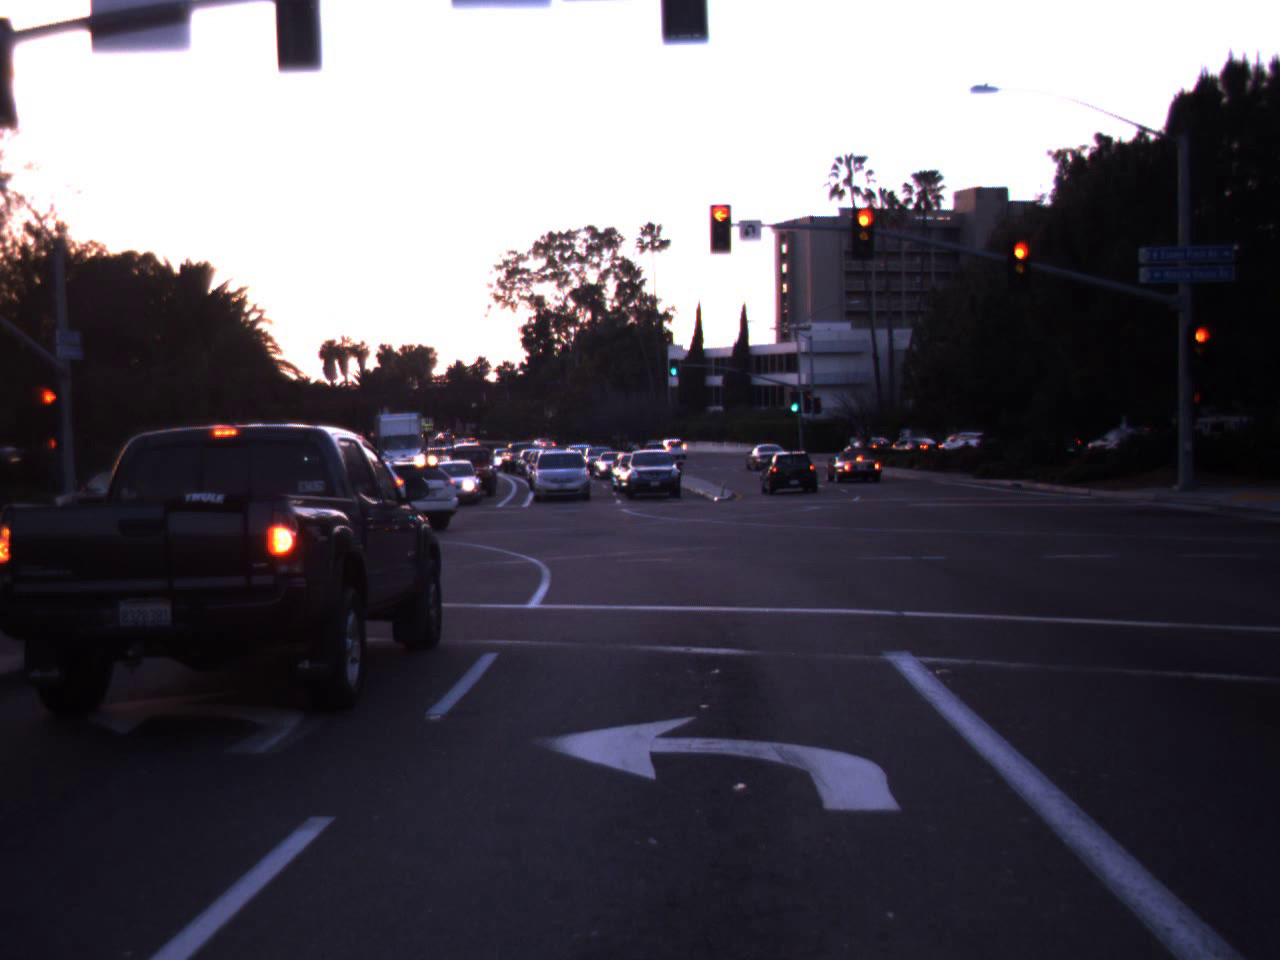go: (787, 384, 802, 414), (668, 351, 680, 376)
stop: (698, 199, 743, 257), (32, 387, 68, 432), (852, 211, 876, 251), (1008, 244, 1032, 284), (1188, 327, 1212, 367)
